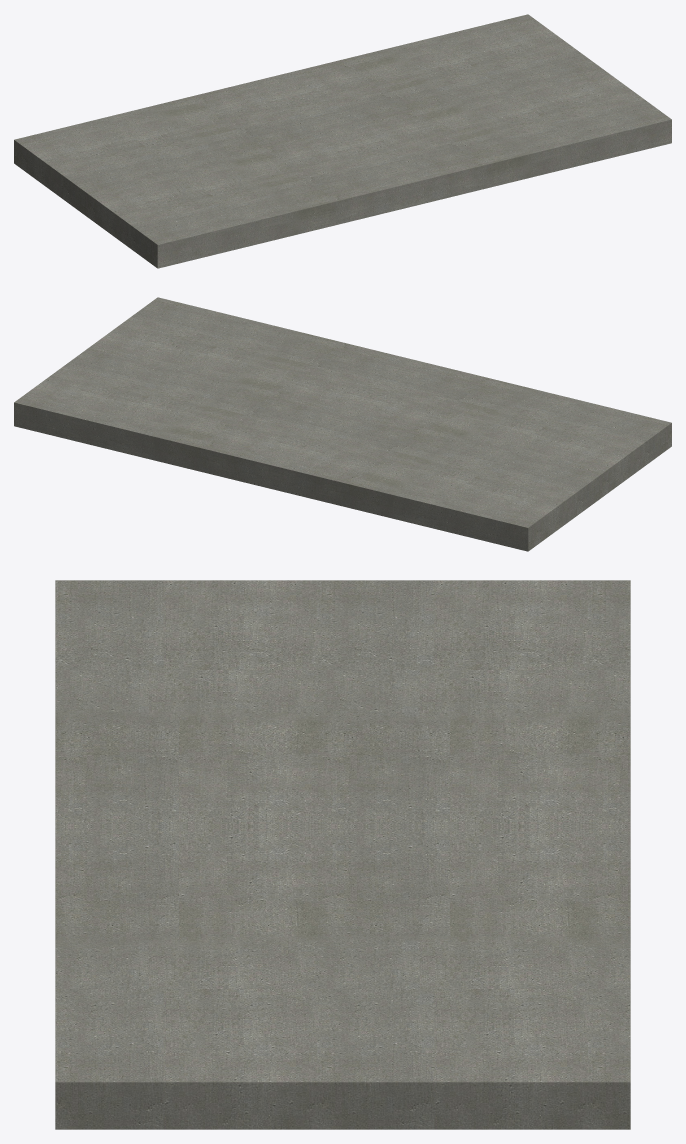
The model's file is SM_Gyedong_Floor_02A.fbx.
The picture shows the model from 3 angles, top to bottom: view 1: azimuth 30°, elevation 25°; view 2: azimuth 150°, elevation 25°; view 3: azimuth 270°, elevation 25°; orthographic projection. The views are drawn at different scales.
Visible parts, largest first — view 1: SM_Gyedong_Floor_02A; view 2: SM_Gyedong_Floor_02A; view 3: SM_Gyedong_Floor_02A.
Part boxes in pixels (bbox=[...]): SM_Gyedong_Floor_02A: bbox=[14, 14, 671, 268]; SM_Gyedong_Floor_02A: bbox=[14, 297, 671, 551]; SM_Gyedong_Floor_02A: bbox=[55, 580, 630, 1129].
Size of the model in its own units: 461 by 20.3 by 223.
